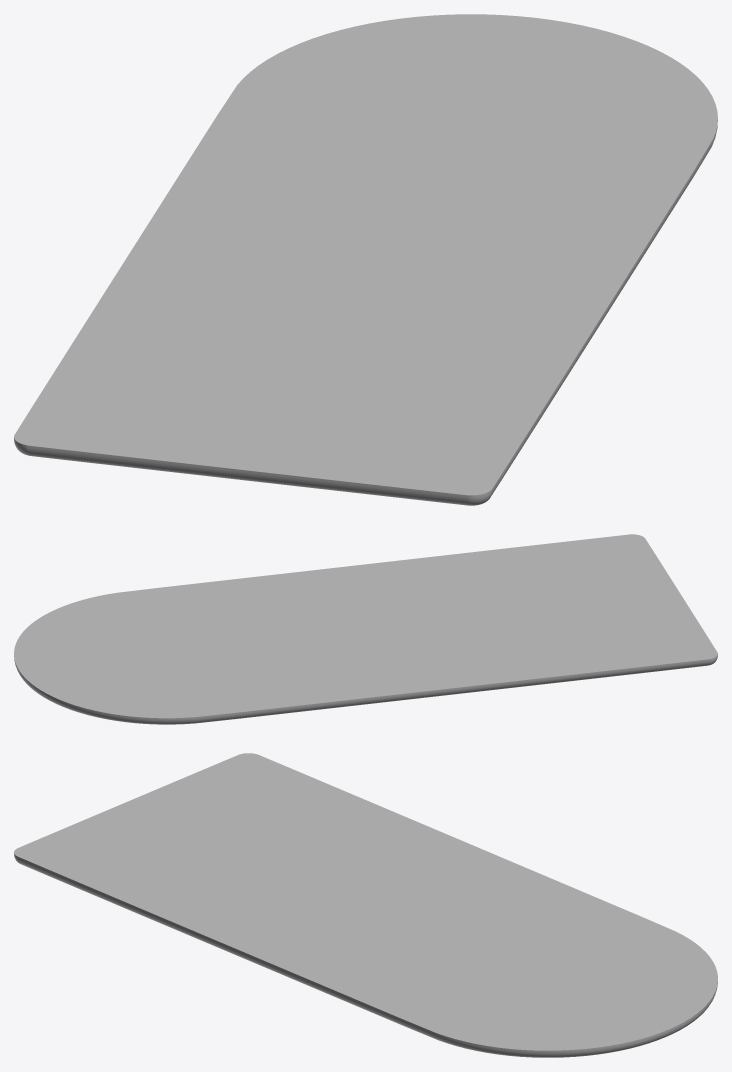
File: diningtable_0204_top.glb
3 views of the same model, one above another, from view 1: azimuth 30°, elevation 25°; view 2: azimuth 150°, elevation 25°; view 3: azimuth 270°, elevation 25° (orthographic). The views are drawn at different scales.
Parts seen in each view (by area): view 1: diningtable_0204_top; view 2: diningtable_0204_top; view 3: diningtable_0204_top.
Part boxes in pixels (bbox=[...]): diningtable_0204_top: bbox=[14, 14, 717, 505]; diningtable_0204_top: bbox=[14, 534, 717, 724]; diningtable_0204_top: bbox=[14, 753, 717, 1057].
Size of the model in its own units: 1.66 by 0.0242 by 1.66.
Materials: 1 (1 with a texture image).
